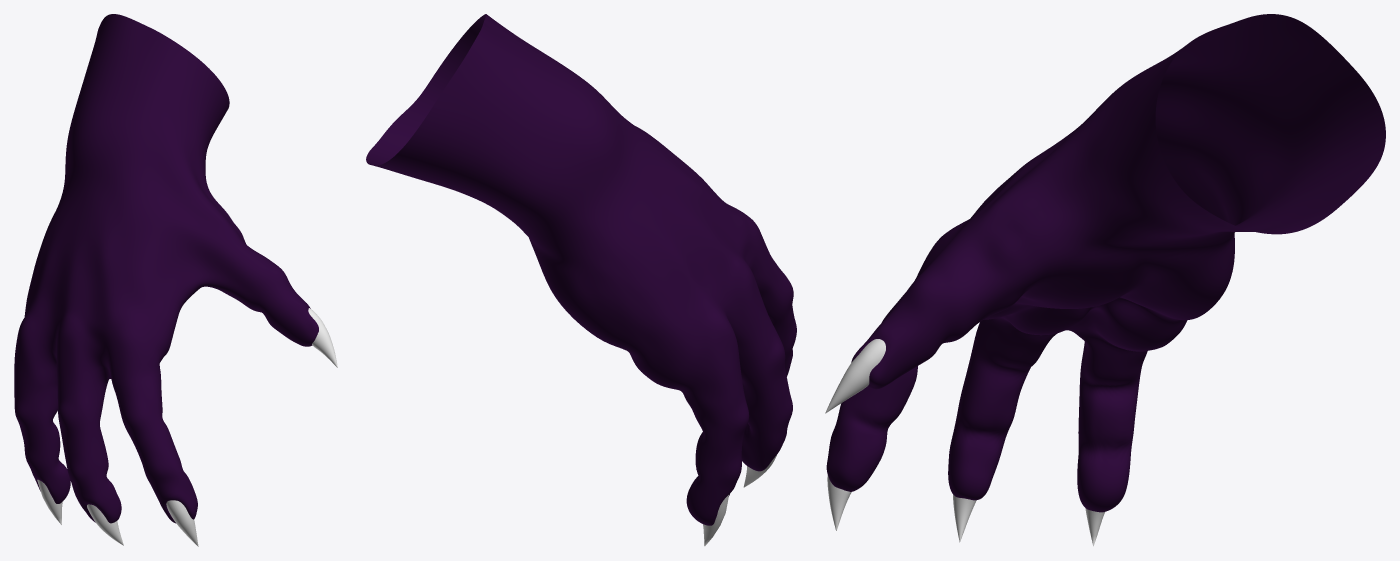
File: Demon Hand.fbx
The picture shows the model from 3 angles, left to right: view 1: azimuth 30°, elevation 25°; view 2: azimuth 150°, elevation 25°; view 3: azimuth 270°, elevation 25°; orthographic projection. The views are drawn at different scales.
Parts seen in each view (by area): view 1: Hand, Cylinder.060, Cylinder.063, Cylinder.061, Cylinder.062; view 2: Hand; view 3: Hand, Cylinder.063.
Boxes of the visible parts, x1,y1,x2,y2 form: Hand: [14, 14, 318, 523]; Cylinder.060: [166, 500, 198, 546]; Cylinder.063: [308, 308, 337, 367]; Cylinder.061: [87, 504, 123, 545]; Cylinder.062: [37, 479, 62, 524]; Hand: [366, 14, 796, 525]; Hand: [826, 14, 1385, 512]; Cylinder.063: [825, 339, 885, 413].
Bounding box in the file's own units: 1040 × 1735 × 1426.
